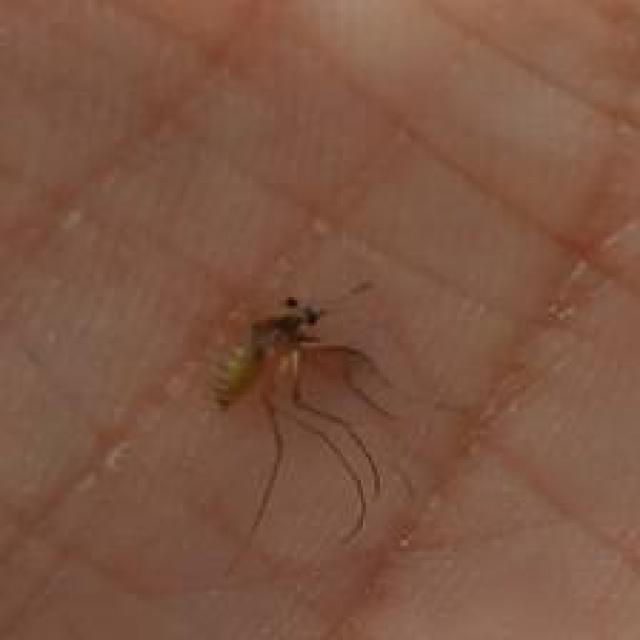Culex: (207, 279, 404, 564)
